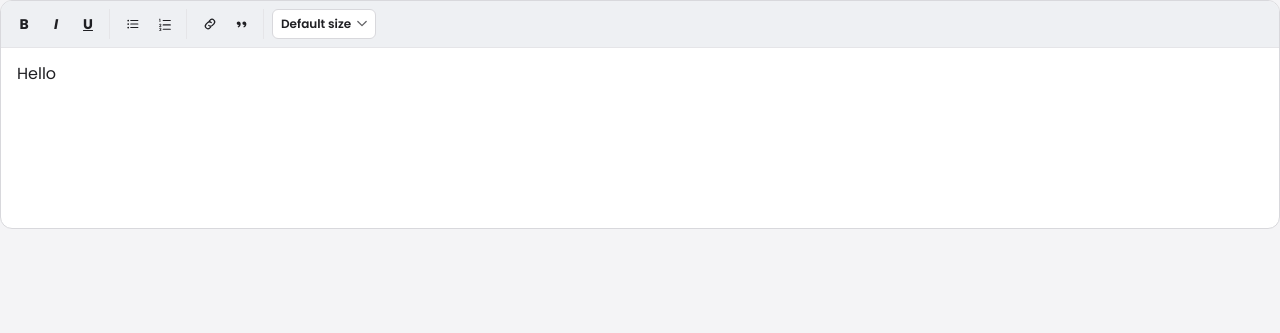
Test: RichTextEditor › opens the link editor when the toolbar link button is clicked
The image size is (1280, 333).
Click the button named "Insert link".
click(210, 24)  # box [195,9,225,39]
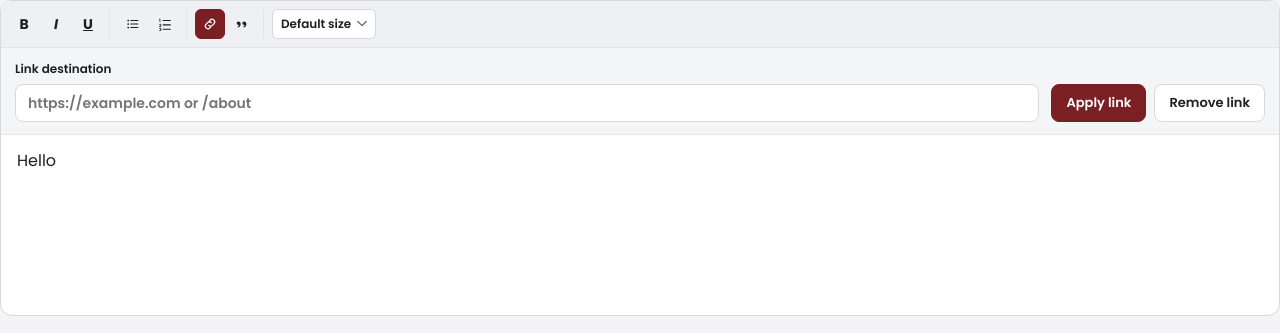
expect the field labelled "Link destination" is shown: met, box [15,84,1040,122]
